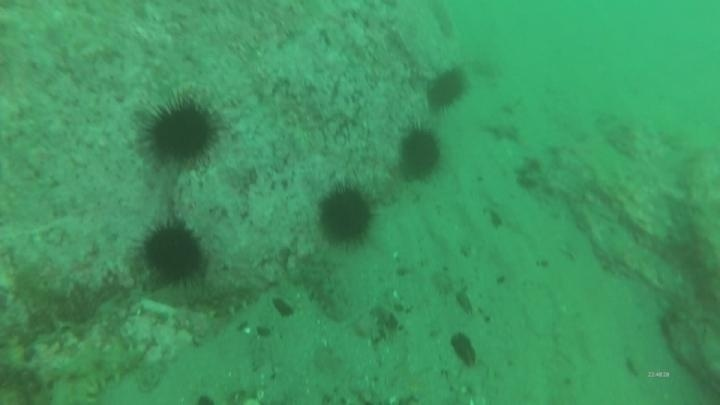echinus: (142, 94, 222, 167), (137, 217, 209, 288), (314, 181, 378, 249), (396, 124, 445, 182), (424, 66, 470, 113)
holothurian: (47, 341, 151, 404), (152, 277, 262, 320), (297, 254, 349, 323)
starfish: (482, 118, 523, 146)
